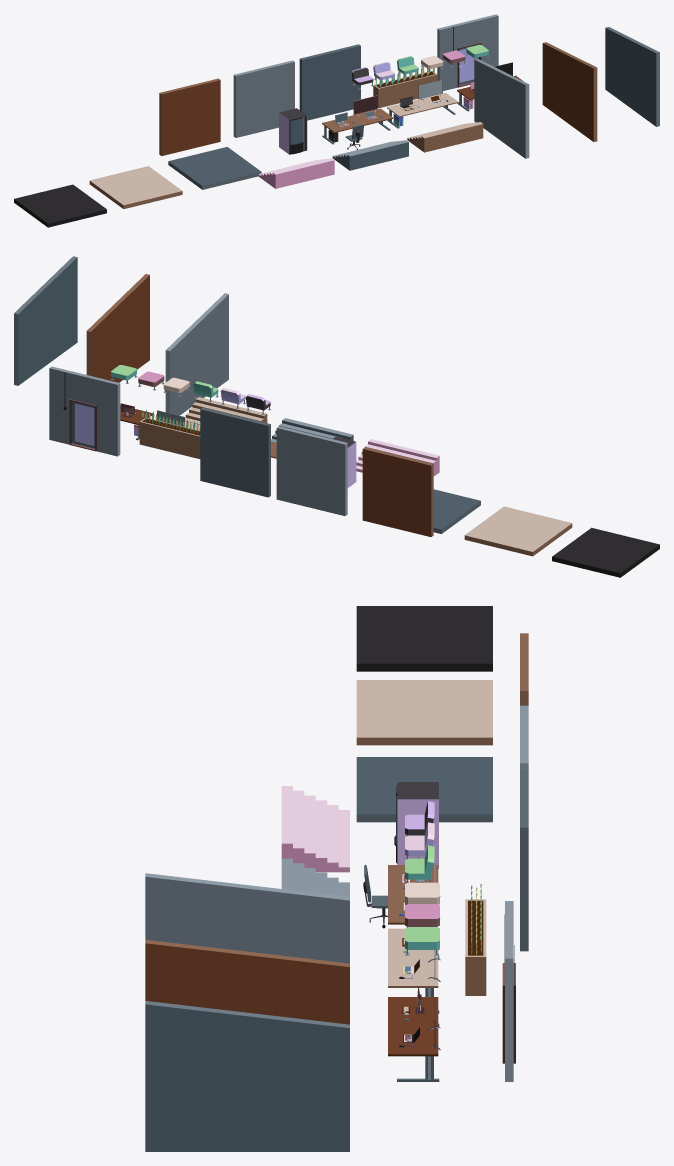
File: LowPolyMeshes.FBX
The picture shows the model from 3 angles, top to bottom: view 1: azimuth 30°, elevation 25°; view 2: azimuth 150°, elevation 25°; view 3: azimuth 270°, elevation 25°; orthographic projection. The views are drawn at different scales.
Visible parts, largest first — view 1: Object033, Object029, Object013, Object034, Object006, Object007, Object011, Object031, Object032, Object030, Object016, Wall002 (+10 smaller); view 2: Object029, Object006, Object034, Object007, Object013, Object033, Object011, Object031, Object032, Object016, Object030, Object012 (+4 smaller); view 3: Object034, Object013, Object033, Object032, Object031, Object030, Wall004, Object024, Object020, Object016, Object011, Object005 (+5 smaller).
Boxes of the visible parts, x1=… form: Object033: x1=542, y1=42, x2=597, y2=141; Object029: x1=159, y1=78, x2=220, y2=155; Object013: x1=474, y1=59, x2=529, y2=158; Object034: x1=605, y1=27, x2=659, y2=126; Object006: x1=233, y1=60, x2=294, y2=137; Object007: x1=299, y1=44, x2=360, y2=120; Object011: x1=437, y1=14, x2=498, y2=90; Object031: x1=89, y1=166, x2=182, y2=208; Object032: x1=14, y1=184, x2=106, y2=227; Object030: x1=168, y1=147, x2=261, y2=189; Object016: x1=373, y1=65, x2=437, y2=108; Wall002: x1=407, y1=122, x2=483, y2=152; Object029: x1=362, y1=447, x2=433, y2=536; Object006: x1=276, y1=426, x2=347, y2=515; Object034: x1=14, y1=256, x2=77, y2=385; Object007: x1=200, y1=407, x2=270, y2=497; Object013: x1=165, y1=293, x2=228, y2=415; Object033: x1=86, y1=274, x2=149, y2=382; Object011: x1=49, y1=366, x2=120, y2=456; Object031: x1=464, y1=506, x2=572, y2=556; Object032: x1=552, y1=527, x2=659, y2=577; Object016: x1=139, y1=410, x2=200, y2=458; Object030: x1=433, y1=489, x2=480, y2=533; Object012: x1=72, y1=401, x2=95, y2=448; Object034: x1=145, y1=1001, x2=349, y2=1151; Object013: x1=145, y1=873, x2=349, y2=963; Object033: x1=145, y1=939, x2=349, y2=1024; Object032: x1=356, y1=606, x2=492, y2=671; Object031: x1=356, y1=680, x2=492, y2=745; Object030: x1=356, y1=757, x2=492, y2=822; Wall004: x1=281, y1=786, x2=349, y2=872; Object024: x1=388, y1=997, x2=439, y2=1081; Object020: x1=388, y1=928, x2=439, y2=1013; Object016: x1=465, y1=884, x2=486, y2=995; Object011: x1=502, y1=901, x2=515, y2=1081; Object005: x1=394, y1=782, x2=438, y2=868.
Size of the model in its own units: 94.69 by 12.82 by 28.1.
